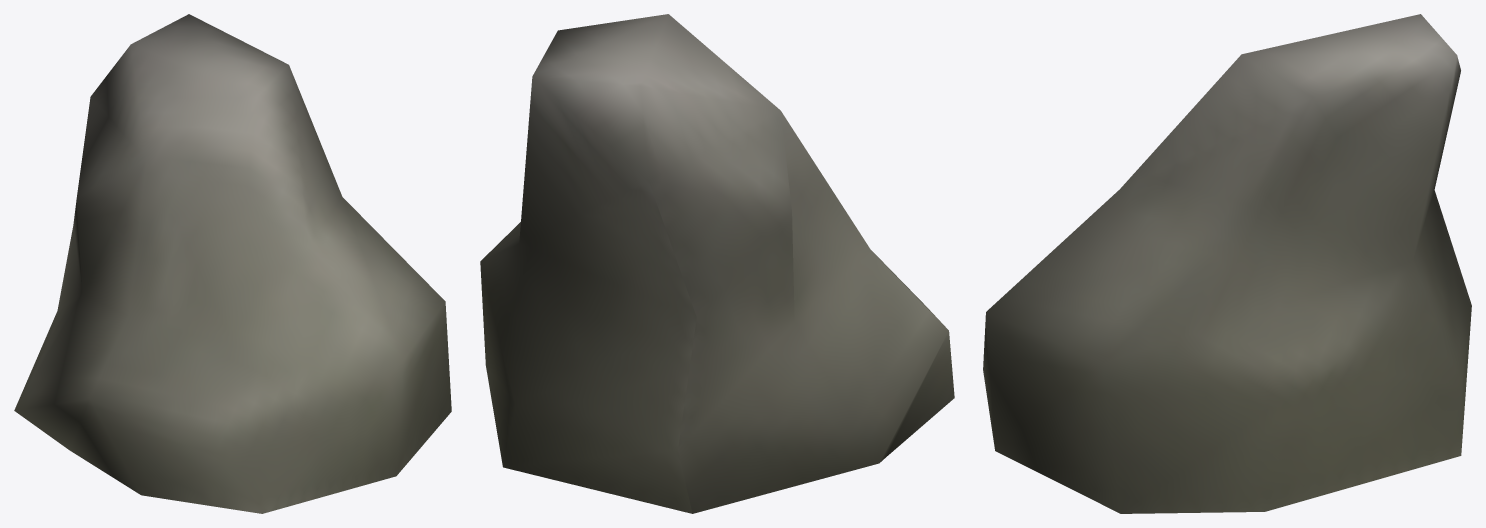
The model's file is Stones_Medium_07.FBX.
The picture shows the model from 3 angles, left to right: view 1: azimuth 30°, elevation 25°; view 2: azimuth 150°, elevation 25°; view 3: azimuth 270°, elevation 25°; orthographic projection. The views are drawn at different scales.
Visible parts, largest first — view 1: Stones_Medium_07; view 2: Stones_Medium_07; view 3: Stones_Medium_07.
Part boxes in pixels (x1=…): Stones_Medium_07: x1=14, y1=14, x2=451, y2=513; Stones_Medium_07: x1=480, y1=14, x2=954, y2=513; Stones_Medium_07: x1=983, y1=14, x2=1471, y2=513.
Size of the model in its own units: 255 by 224 by 257.
